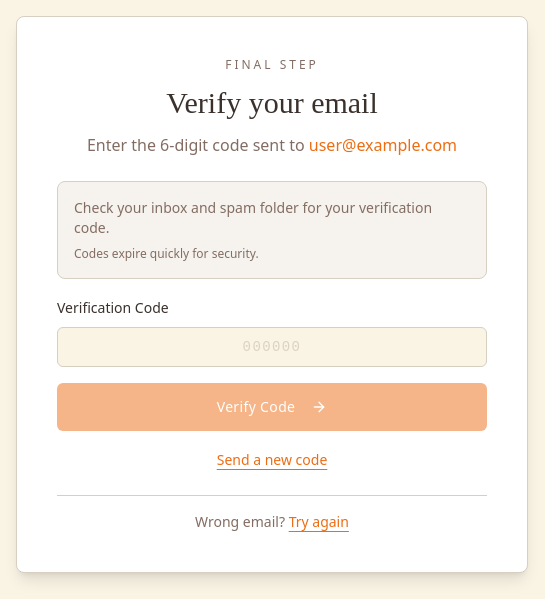
CheckEmailPage › disables the verify button while verification is in flight
Type "123456" into the field labelled "Verification Code".
click(272, 346); type("123456")  # box top-left (57, 326), bottom-right (487, 366)
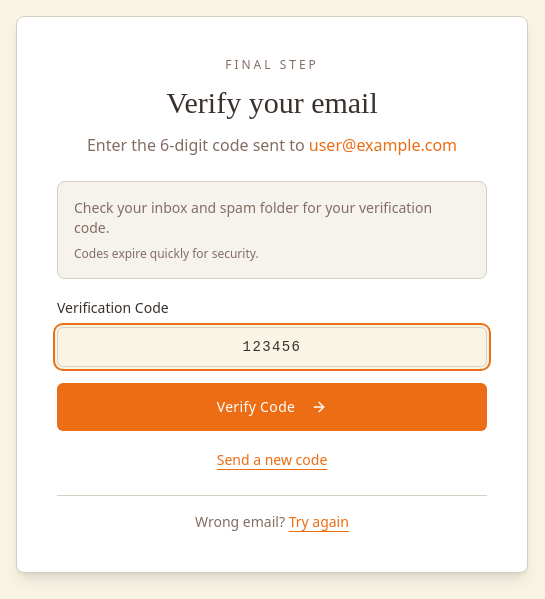
Click the button "Verify Code".
click(272, 406)  # box top-left (57, 382), bottom-right (487, 430)
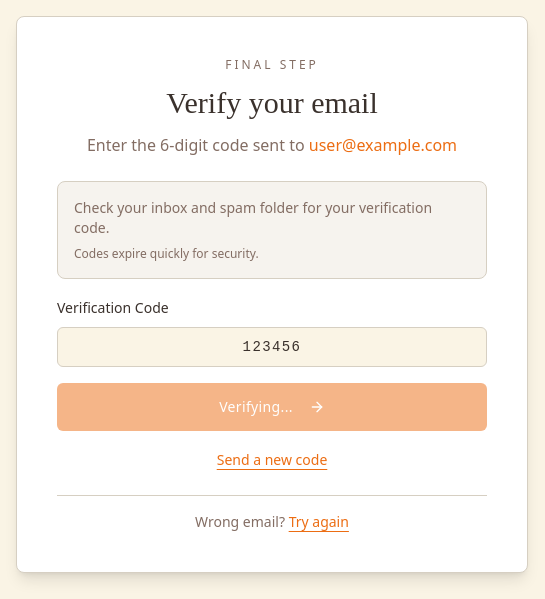
Expected: the button "Verifying..." is disabled, top-left (57, 382), bottom-right (487, 430)
